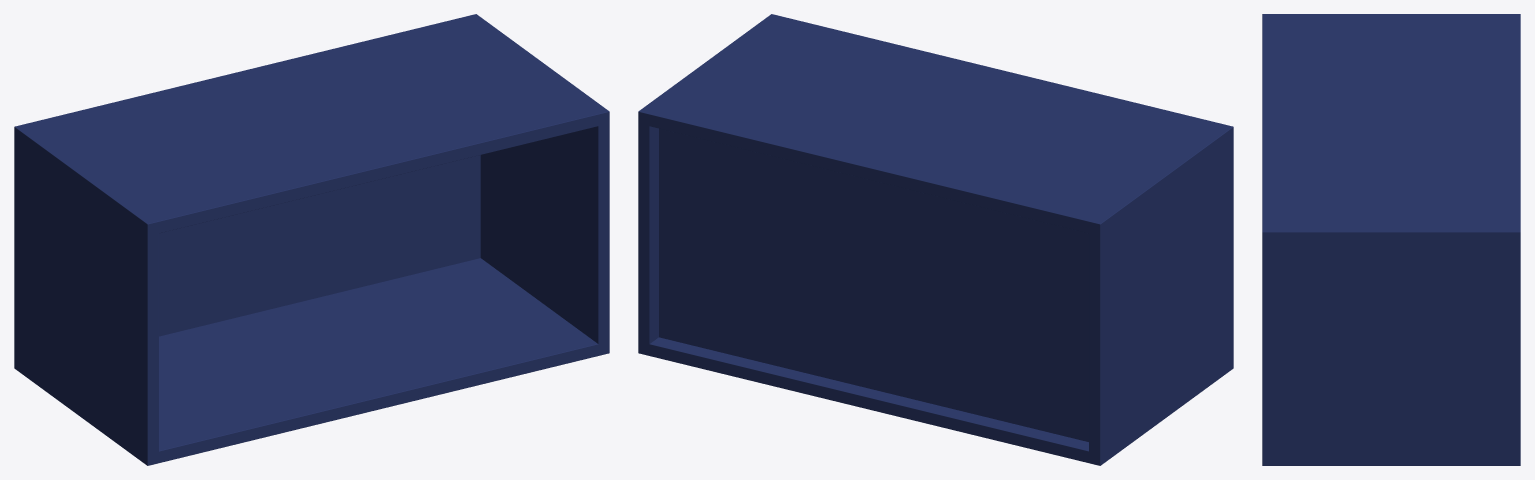
The model's file is MOD_2X1_A_B_AF.glb.
3 renders of one model, left to right at view 1: azimuth 30°, elevation 25°; view 2: azimuth 150°, elevation 25°; view 3: azimuth 270°, elevation 25°, orthographic. The views are drawn at different scales.
Size of the model in its own units: 720 by 360 by 360.
